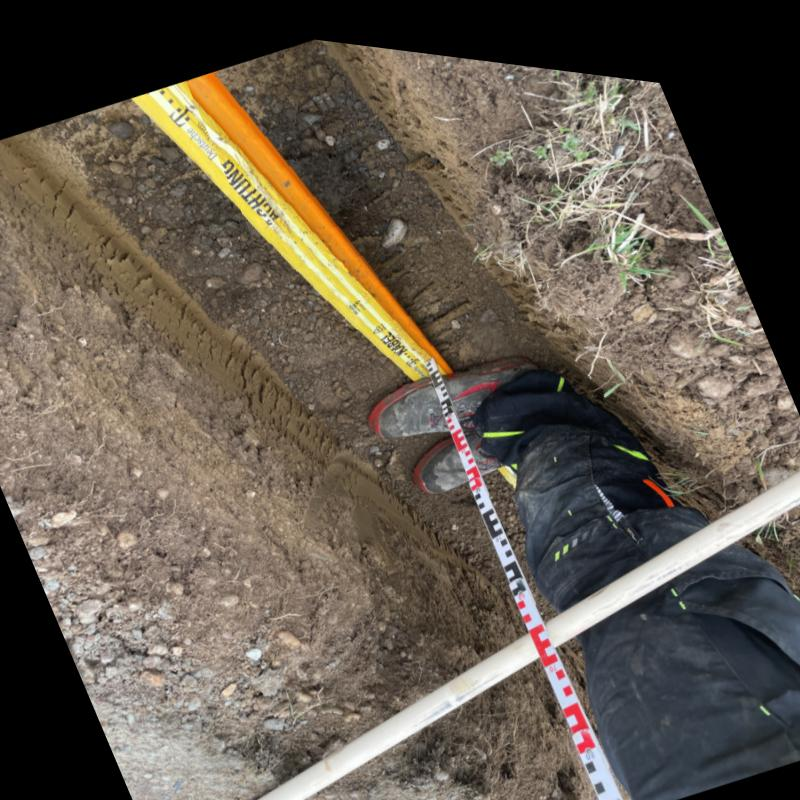Orang-Speednetrohrchen: (187, 66, 444, 351)
